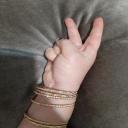PeaceSign: (41, 16, 108, 92)
